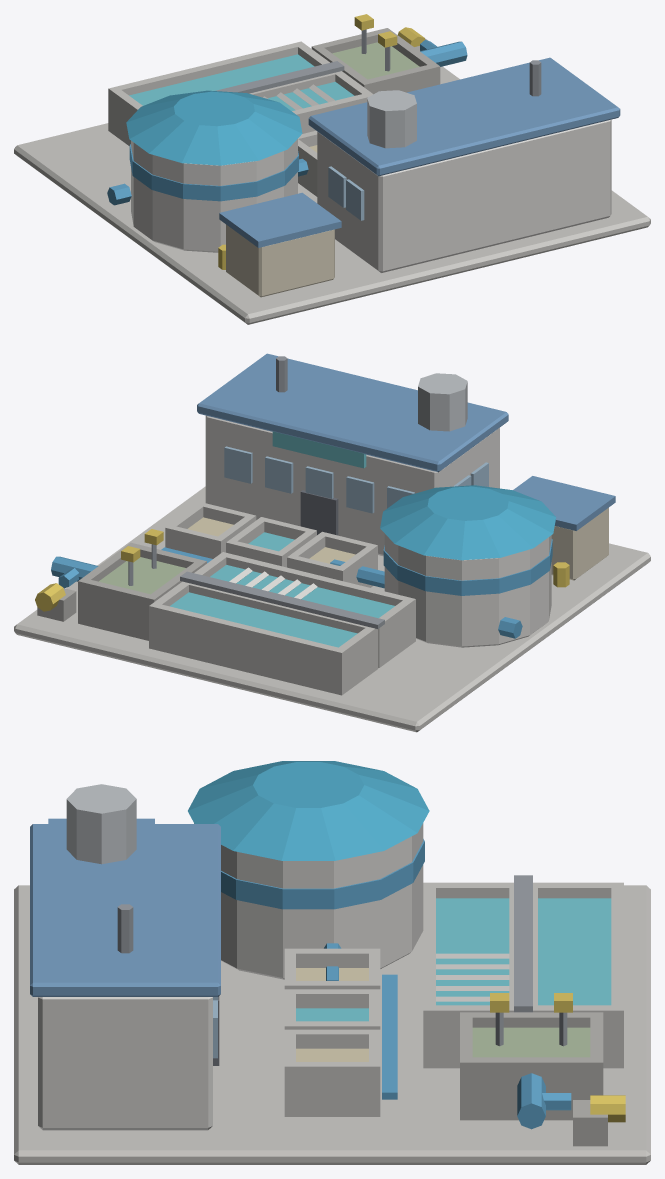
The model's file is agua__eta.glb.
The picture shows the model from 3 angles, top to bottom: view 1: azimuth 30°, elevation 25°; view 2: azimuth 150°, elevation 25°; view 3: azimuth 270°, elevation 25°; orthographic projection. The views are drawn at different scales.
Visible parts, largest first — view 1: agua__eta; view 2: agua__eta; view 3: agua__eta.
Part boxes in pixels (bbox=[...]): agua__eta: bbox=[14, 14, 650, 324]; agua__eta: bbox=[14, 353, 650, 732]; agua__eta: bbox=[14, 761, 650, 1164].
Bounding box in the file's own units: 4 × 1.51 × 4.
